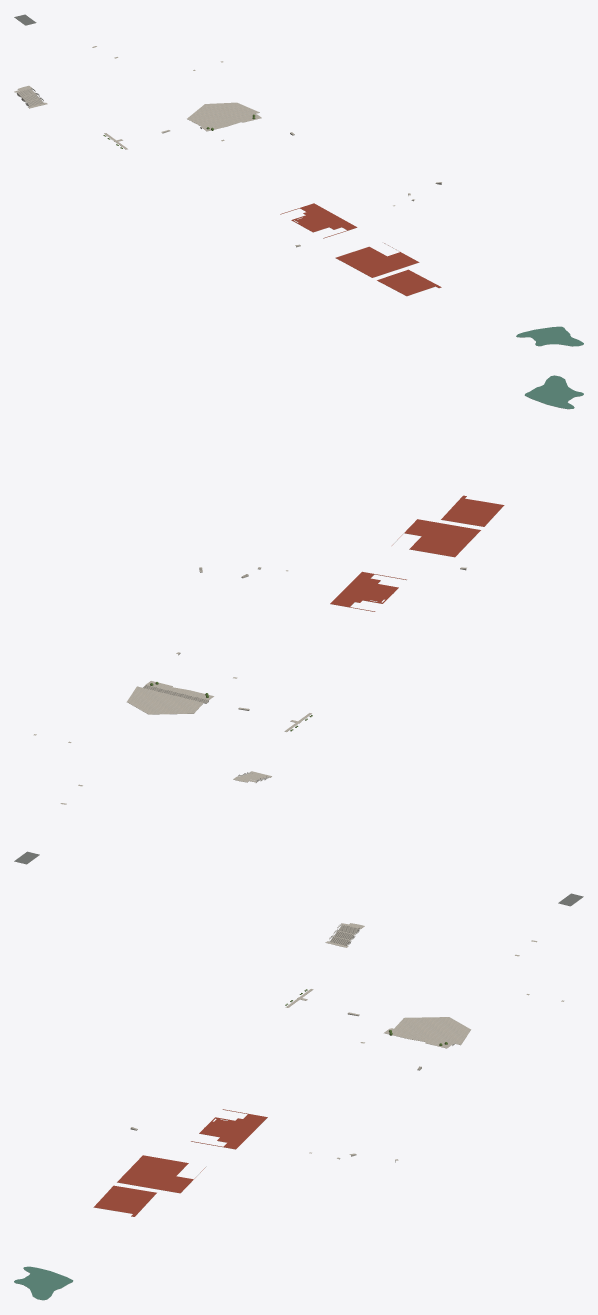
3 views of the same model, one above another, from view 1: azimuth 30°, elevation 25°; view 2: azimuth 150°, elevation 25°; view 3: azimuth 330°, elevation 25° (orthographic). The views are drawn at different scales.
Visible parts, largest first — view 1: art-courtyard-paving__terracotta, mokwon-graniteLight, bethesda-water__water; view 2: art-courtyard-paving__terracotta, mokwon-graniteLight, bethesda-water__water; view 3: art-courtyard-paving__terracotta, mokwon-graniteLight, bethesda-water__water, chapel-main-stairs-1__graniteRiser.
Part boxes in pixels (x1,y1,x2,y2): art-courtyard-paving__terracotta: (280,203,441,295); mokwon-graniteLight: (14,46,441,245); bethesda-water__water: (516,326,583,346); art-courtyard-paving__terracotta: (330,495,504,611); mokwon-graniteLight: (33,567,466,804); bethesda-water__water: (524,375,583,408); art-courtyard-paving__terracotta: (94,1109,267,1216); mokwon-graniteLight: (131,923,564,1160); bethesda-water__water: (14,1266,73,1300); chapel-main-stairs-1__graniteRiser: (16,897,582,1300).
Size of the model in its own units: 299 by 42.86 by 1115.
8 materials, 2 textured.
